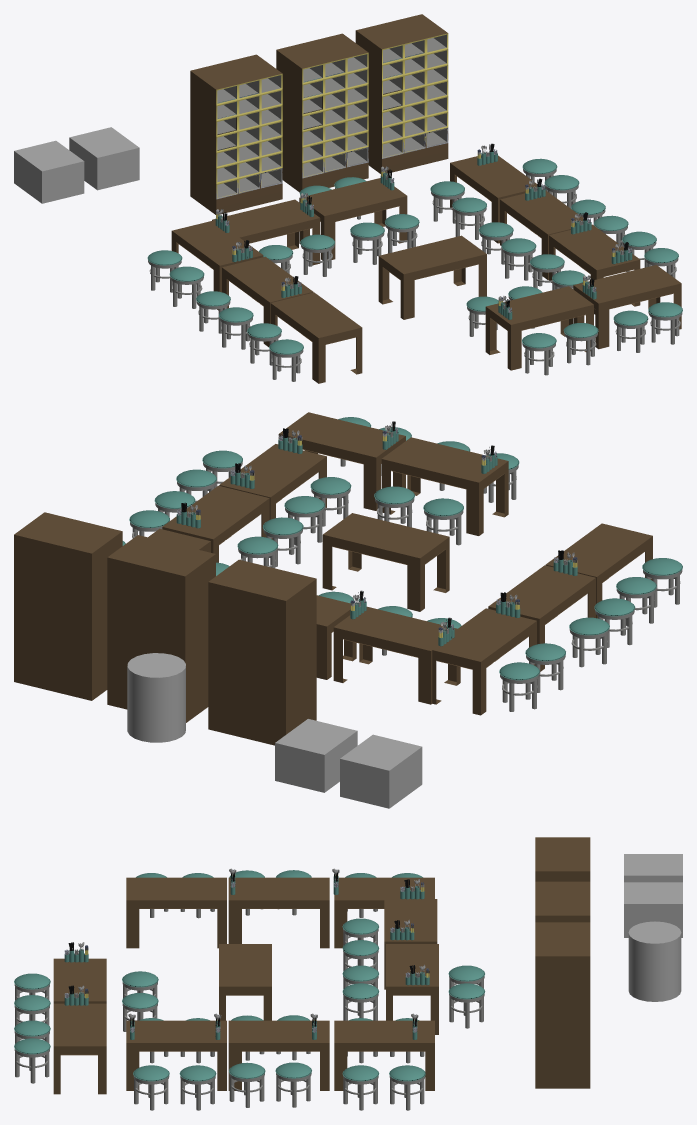
File: take 3.fbx
3 views of the same model, one above another, from view 1: azimuth 30°, elevation 25°; view 2: azimuth 150°, elevation 25°; view 3: azimuth 270°, elevation 25° (orthographic). The views are drawn at different scales.
Parts seen in each view (by area): view 1: cubbies_scene2_pCube3, cubbies_scene2_pCube2, cubbies_scene2_pCube1, tables_pCube13, tables_pCube12, tables_pCube7, tables_pCube11, pCube32, tables_pCube2, pCube31, tables_pCube3, tables_pCube8 (+29 smaller); view 2: cubbies_scene2_pCube3, cubbies_scene2_pCube1, cubbies_scene2_pCube2, tables_pCube13, tables_pCube12, tables_pCube3, pCylinder41, pCube32, tables_pCube4, tables_pCube11, pCube31, tables_pCube5 (+22 smaller); view 3: cubbies_scene2_pCube1, tables_pCube7, pCylinder41, tables_pCube5, tables_pCube10, tables_pCube8, tables_pCube9, tables_pCube11, tables_pCube13, tables_pCube2, tables_pCube4, pCube31 (+23 smaller).
Part boxes in pixels (bbox=[...]): cubbies_scene2_pCube3: bbox=[190, 54, 282, 214]; cubbies_scene2_pCube2: bbox=[276, 33, 368, 192]; cubbies_scene2_pCube1: bbox=[355, 14, 448, 173]; tables_pCube13: bbox=[378, 235, 486, 319]; tables_pCube12: bbox=[485, 286, 593, 370]; tables_pCube7: bbox=[270, 292, 362, 383]; tables_pCube11: bbox=[573, 265, 681, 349]; pCube32: bbox=[14, 140, 84, 203]; tables_pCube2: bbox=[299, 178, 407, 260]; pCube31: bbox=[69, 127, 139, 190]; tables_pCube3: bbox=[212, 199, 320, 265]; tables_pCube8: bbox=[549, 224, 640, 314]; cubbies_scene2_pCube3: bbox=[208, 559, 316, 745]; cubbies_scene2_pCube1: bbox=[14, 512, 122, 700]; cubbies_scene2_pCube2: bbox=[107, 535, 215, 722]; tables_pCube13: bbox=[322, 513, 449, 611]; tables_pCube12: bbox=[381, 437, 508, 535]; tables_pCube3: bbox=[333, 606, 460, 704]; pCylinder41: bbox=[127, 653, 185, 742]; pCube32: bbox=[340, 734, 422, 808]; tables_pCube4: bbox=[432, 608, 536, 715]; tables_pCube11: bbox=[278, 412, 405, 510]; pCube31: bbox=[275, 719, 357, 792]; tables_pCube5: bbox=[488, 565, 595, 671]; cubbies_scene2_pCube1: bbox=[535, 922, 590, 1088]; tables_pCube7: bbox=[126, 877, 226, 948]; pCylinder41: bbox=[628, 921, 681, 1001]; tables_pCube5: bbox=[228, 877, 329, 948]; tables_pCube10: bbox=[334, 1020, 434, 1090]; tables_pCube8: bbox=[126, 1020, 226, 1090]; tables_pCube9: bbox=[228, 1020, 329, 1090]; tables_pCube11: bbox=[53, 1003, 106, 1094]; tables_pCube13: bbox=[219, 944, 271, 1020]; tables_pCube2: bbox=[386, 944, 438, 1034]; tables_pCube4: bbox=[334, 877, 434, 948]; pCube31: bbox=[624, 882, 682, 937].
Size of the model in its own units: 10.16 by 3.05 by 13.63.
Materials: 2 (1 with a texture image).
